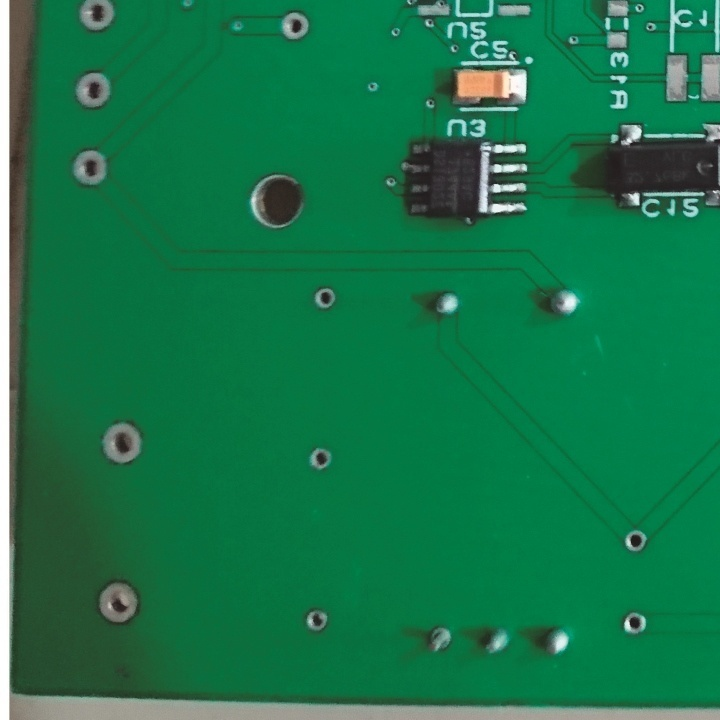F: (97, 415, 145, 470), (94, 579, 141, 628), (70, 69, 116, 112), (68, 147, 113, 189), (73, 1, 119, 36), (422, 623, 459, 660), (276, 11, 312, 44), (310, 283, 338, 315), (307, 446, 336, 476), (621, 609, 648, 641), (302, 606, 330, 635), (619, 526, 650, 552)
